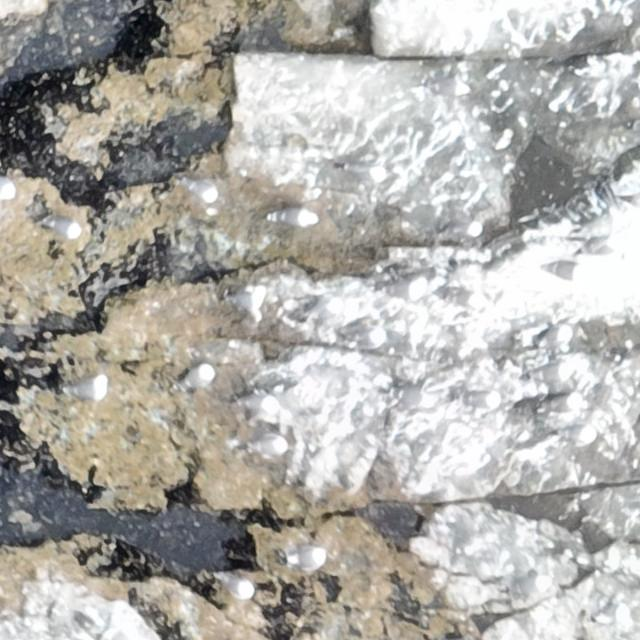umineko: (64, 368, 107, 401), (376, 274, 426, 300), (340, 158, 385, 184), (539, 258, 590, 280), (182, 172, 218, 203), (525, 362, 573, 384), (532, 324, 572, 350), (461, 385, 502, 409), (578, 235, 624, 256), (225, 284, 265, 308), (247, 437, 290, 458), (517, 574, 551, 600), (538, 396, 584, 415), (289, 546, 327, 567), (222, 574, 255, 598), (182, 365, 213, 389), (274, 209, 315, 227), (233, 395, 279, 411), (550, 428, 594, 444), (46, 220, 80, 238)
